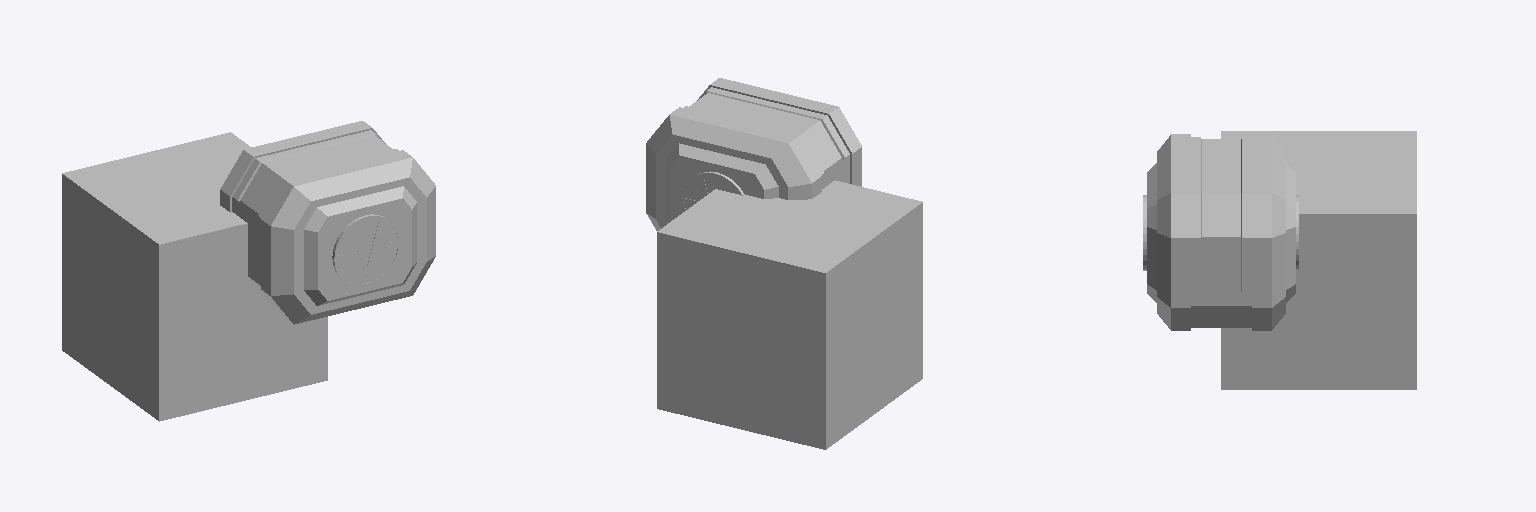
File: health_crate.obj
3 renders of one model, left to right at view 1: azimuth 30°, elevation 25°; view 2: azimuth 150°, elevation 25°; view 3: azimuth 270°, elevation 25°, orthographic.
Visible parts, largest first — view 1: cube, Circle; view 2: cube, Circle; view 3: cube, Circle.
Boxes of the visible parts, <box> form: cube: <box>62,132,327,421</box>; Circle: <box>220,121,435,324</box>; cube: <box>657,180,922,449</box>; Circle: <box>646,78,861,230</box>; cube: <box>1221,131,1416,389</box>; Circle: <box>1143,134,1298,330</box>.
Size of the model in its own units: 1.49 by 1.28 by 1.4.